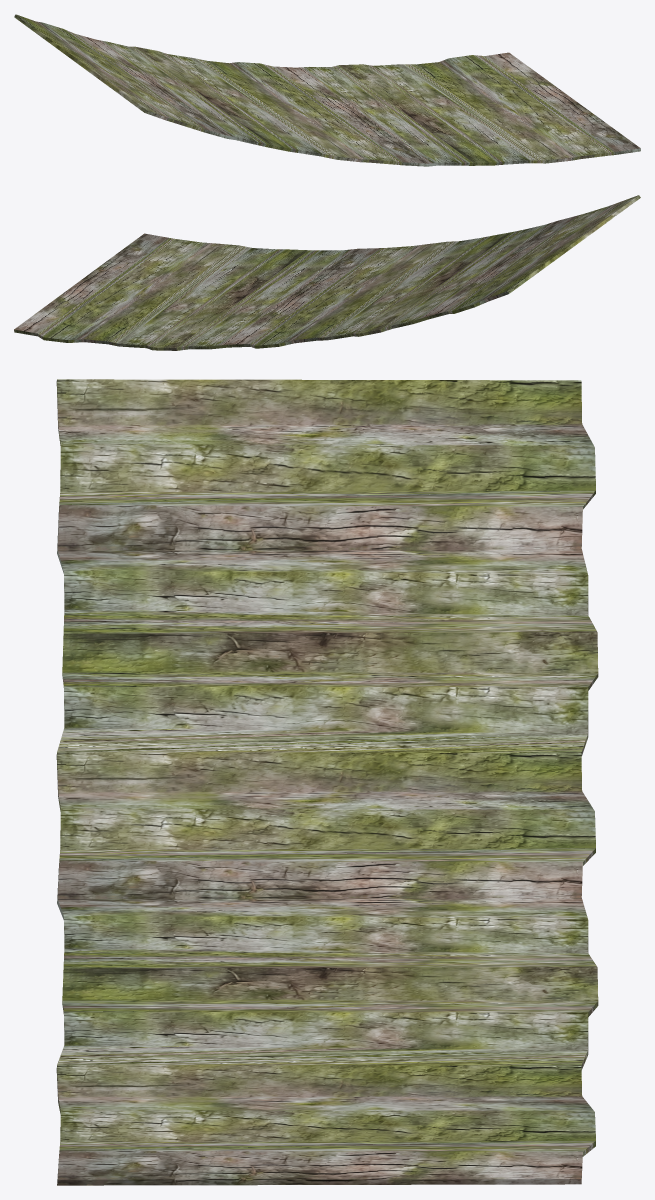
File: Col-R-2-2-1.fbx
3 renders of one model, top to bottom at view 1: azimuth 30°, elevation 25°; view 2: azimuth 150°, elevation 25°; view 3: azimuth 270°, elevation 25°, orthographic. The views are drawn at different scales.
Parts seen in each view (by area): view 1: Ramp_002__2___1_; view 2: Ramp_002__2___1_; view 3: Ramp_002__2___1_.
Part boxes in pixels (x1,y1,x2,y2): Ramp_002__2___1_: [14, 14, 640, 166]; Ramp_002__2___1_: [14, 195, 640, 350]; Ramp_002__2___1_: [56, 379, 598, 1185].
Size of the model in its own units: 436 by 136 by 206.
